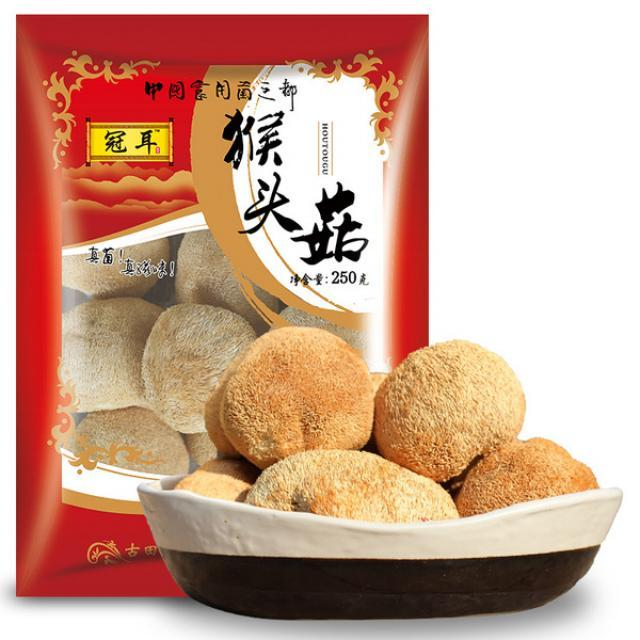Hericium erinaceus: (223, 326, 373, 458), (381, 342, 523, 474), (261, 453, 456, 528), (147, 303, 255, 430), (62, 294, 166, 414), (465, 437, 601, 514), (62, 404, 191, 471)
